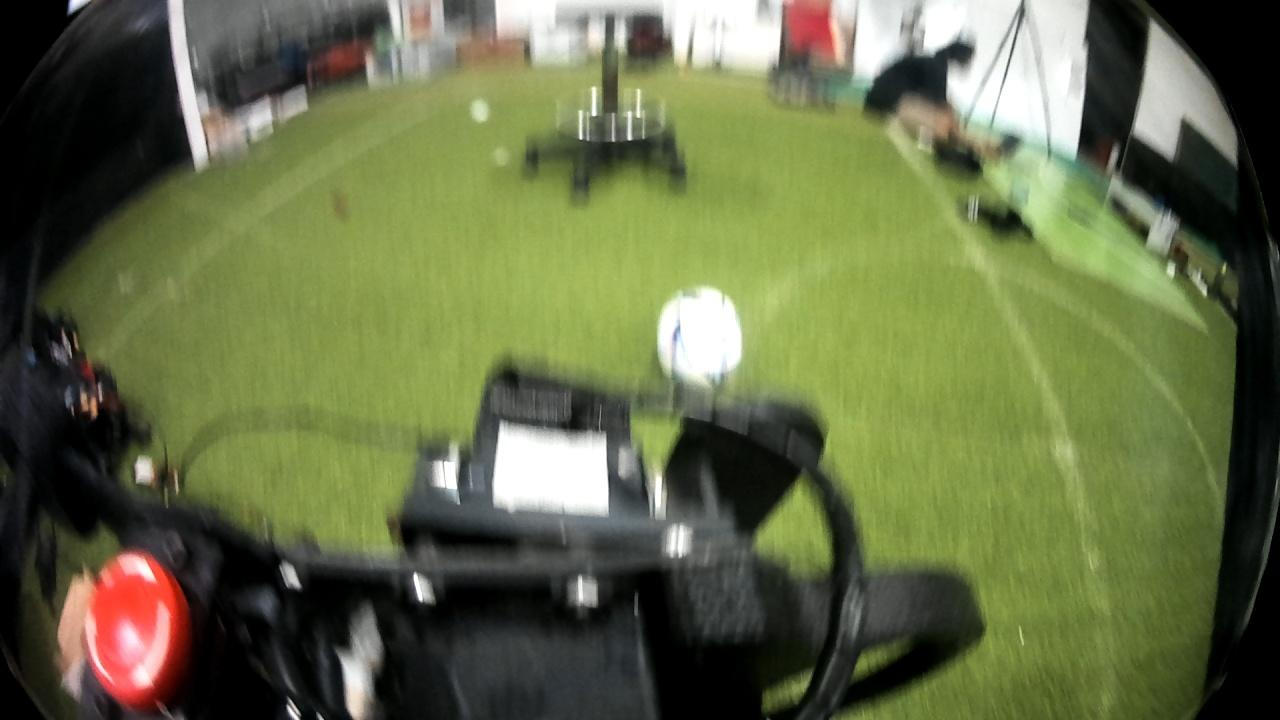ball: (649, 277, 753, 387)
